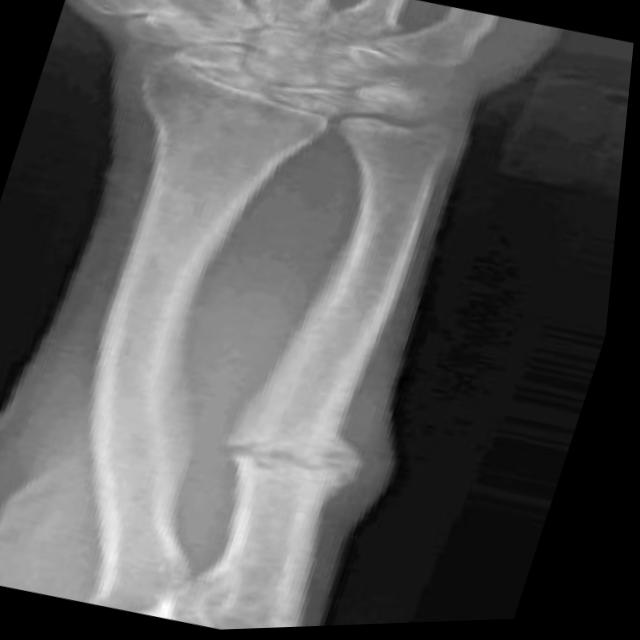fracture: (197, 411, 408, 508)
